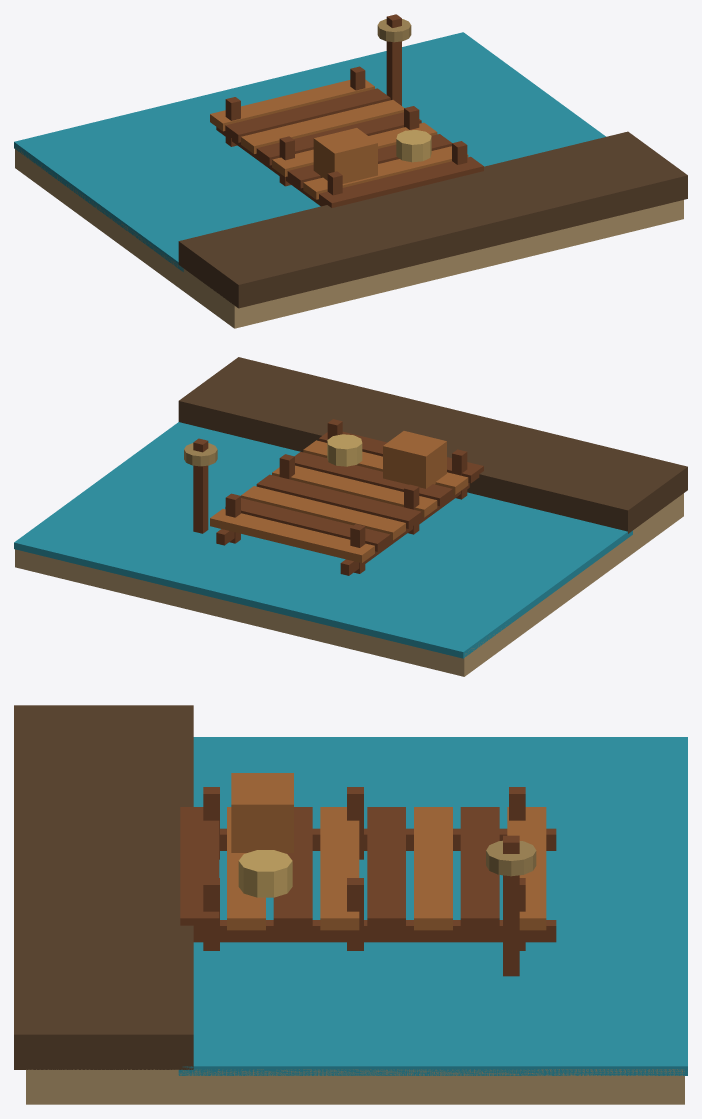
Rendered from small_river_dock.glb.
The picture shows the model from 3 angles, top to bottom: view 1: azimuth 30°, elevation 25°; view 2: azimuth 150°, elevation 25°; view 3: azimuth 270°, elevation 25°; orthographic projection. The views are drawn at different scales.
Visible parts, largest first — view 1: RiverWater, RiverBank, TerrainBase, DockCrate, DockPlank, DockPlank.006, DockPlank.005, DockPlank.007, DockPlank.004, DockPlank.001, DockPlank.003, MooringPost (+3 smaller); view 2: RiverWater, RiverBank, TerrainBase, DockPlank.007, DockCrate, DockPlank.004, DockPlank.005, DockPlank.006, DockPlank.003, DockPlank.002, MooringPost, DockPlank.001 (+4 smaller); view 3: RiverWater, RiverBank, TerrainBase, DockCrate, DockPlank.004, DockPlank.005, DockBeam.001, DockPlank.006, DockPlank.003, DockPlank, DockPlank.002, DockPlank.007 (+9 smaller).
Boxes of the visible parts, left/top/right/bottom form: RiverWater: left=14, top=32, right=605, bottom=271; RiverBank: left=178, top=131, right=687, bottom=308; TerrainBase: left=15, top=147, right=683, bottom=328; DockCrate: left=313, top=128, right=377, bottom=183; DockPlank: left=319, top=156, right=483, bottom=207; DockPlank.006: left=225, top=88, right=390, bottom=142; DockPlank.005: left=241, top=100, right=403, bottom=153; DockPlank.007: left=210, top=79, right=374, bottom=131; DockPlank.004: left=256, top=112, right=421, bottom=165; DockPlank.001: left=303, top=146, right=468, bottom=199; DockPlank.003: left=272, top=122, right=437, bottom=176; MooringPost: left=386, top=14, right=401, bottom=105; RiverWater: left=14, top=422, right=632, bottom=658; RiverBank: left=178, top=357, right=687, bottom=533; TerrainBase: left=15, top=493, right=683, bottom=676; DockPlank.007: left=210, top=509, right=374, bottom=563; DockCrate: left=383, top=431, right=446, bottom=488; DockPlank.004: left=256, top=474, right=421, bottom=528; DockPlank.005: left=241, top=486, right=405, bottom=540; DockPlank.006: left=225, top=498, right=390, bottom=551; DockPlank.003: left=272, top=465, right=437, bottom=517; DockPlank.002: left=295, top=452, right=452, bottom=506; MooringPost: left=193, top=438, right=208, bottom=533; DockPlank.001: left=303, top=440, right=468, bottom=494; RiverWater: left=178, top=737, right=687, bottom=1075; RiverBank: left=14, top=705, right=193, bottom=1069; TerrainBase: left=26, top=1069, right=684, bottom=1104; DockCrate: left=231, top=773, right=293, bottom=852; DockPlank.004: left=367, top=807, right=405, bottom=930; DockPlank.005: left=414, top=807, right=452, bottom=930; DockBeam.001: left=193, top=920, right=556, bottom=942; DockPlank.006: left=460, top=807, right=499, bottom=930; DockPlank.003: left=320, top=807, right=359, bottom=930; DockPlank: left=180, top=807, right=219, bottom=930; DockPlank.002: left=273, top=807, right=312, bottom=930; DockPlank.007: left=507, top=807, right=546, bottom=930.
Size of the model in its own units: 13 by 3.35 by 11.25.
